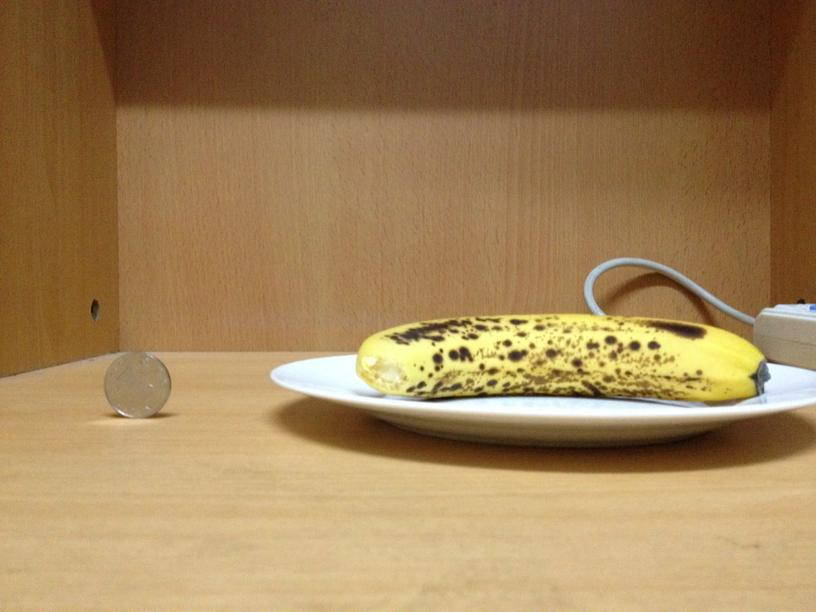banana: (354, 310, 764, 400)
coin: (100, 351, 170, 417)
